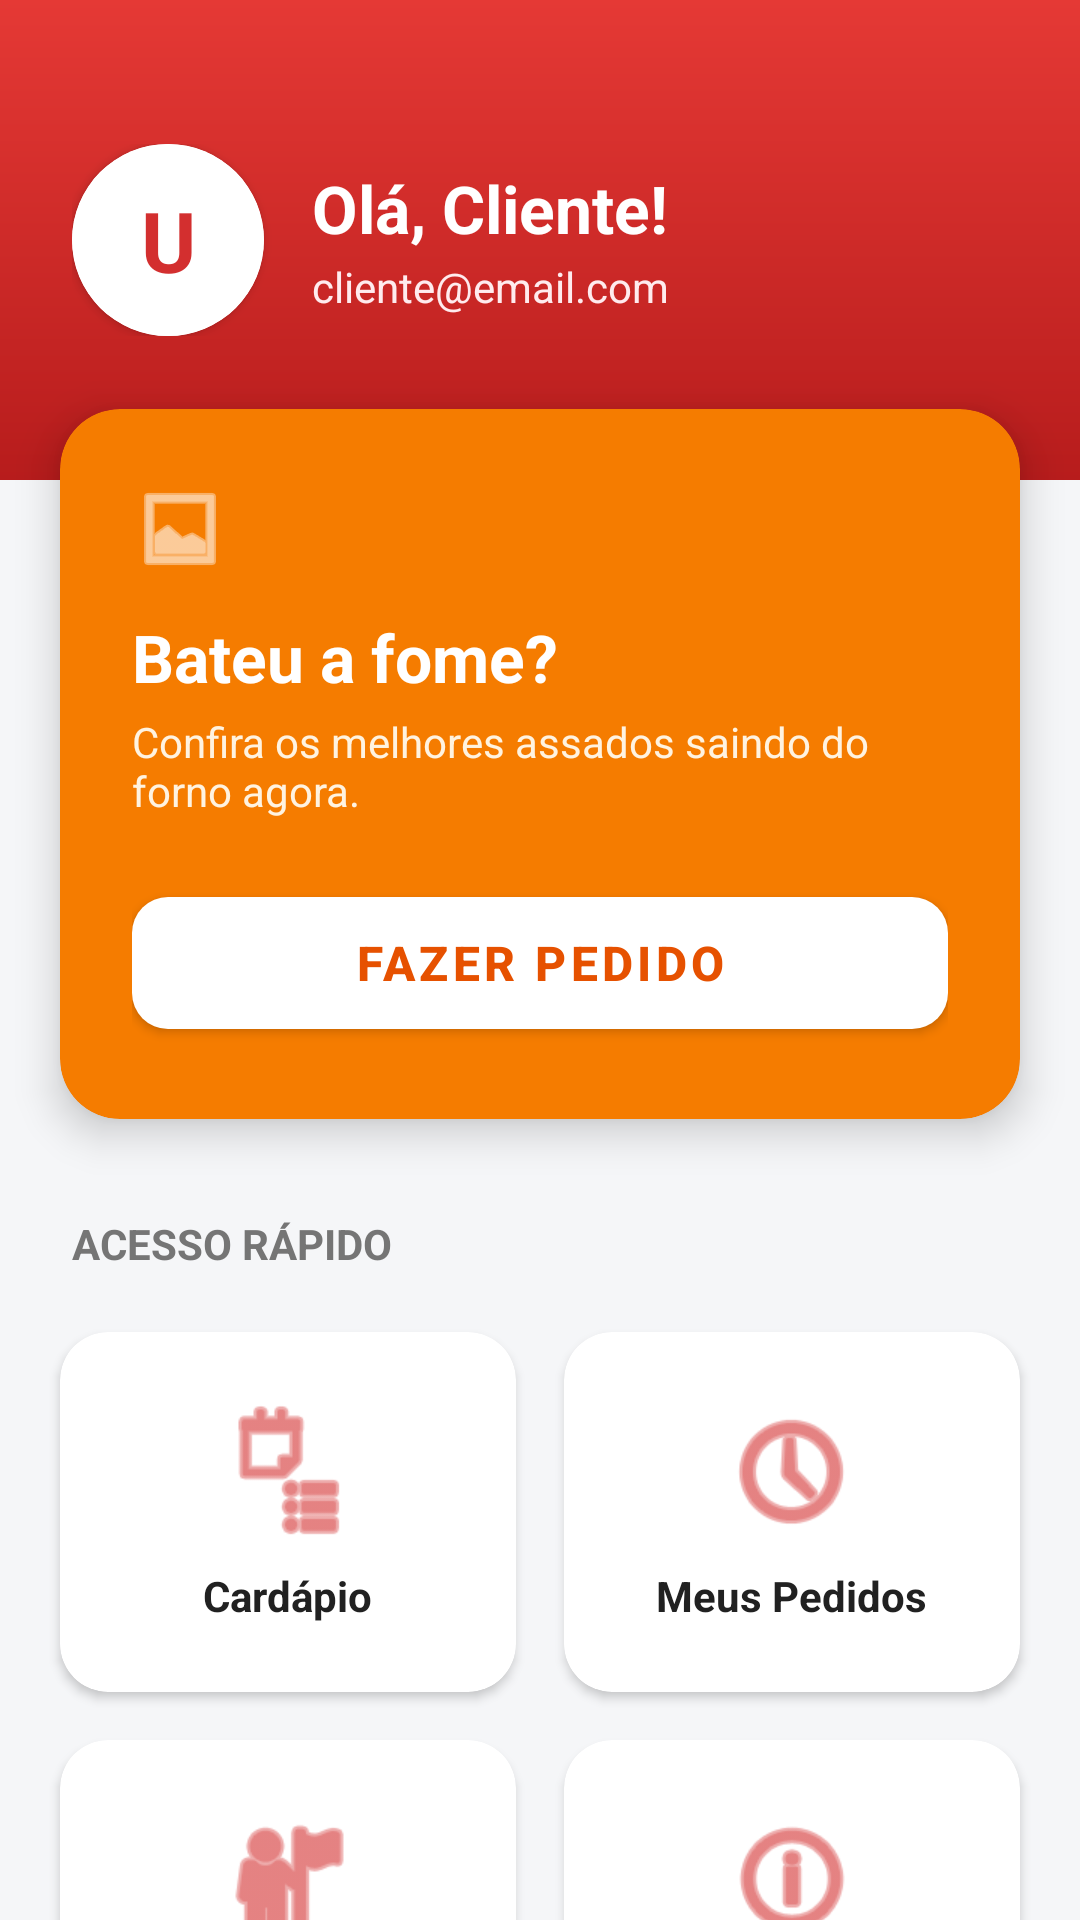

Where icons sit on this 1080x1920 app screen, as (x1, y1, x2, y2):
agenda: (238, 1406, 339, 1534)
gallery: (144, 493, 216, 565)
recent history: (739, 1420, 843, 1524)
